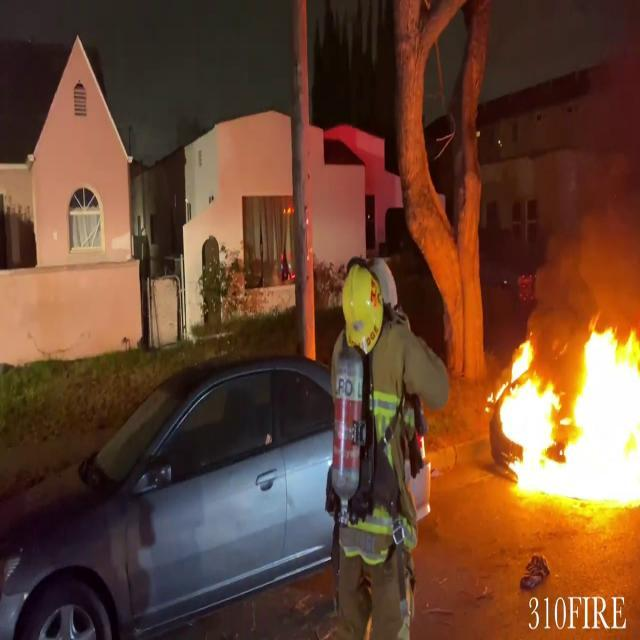Fire: (489, 306, 640, 514)
